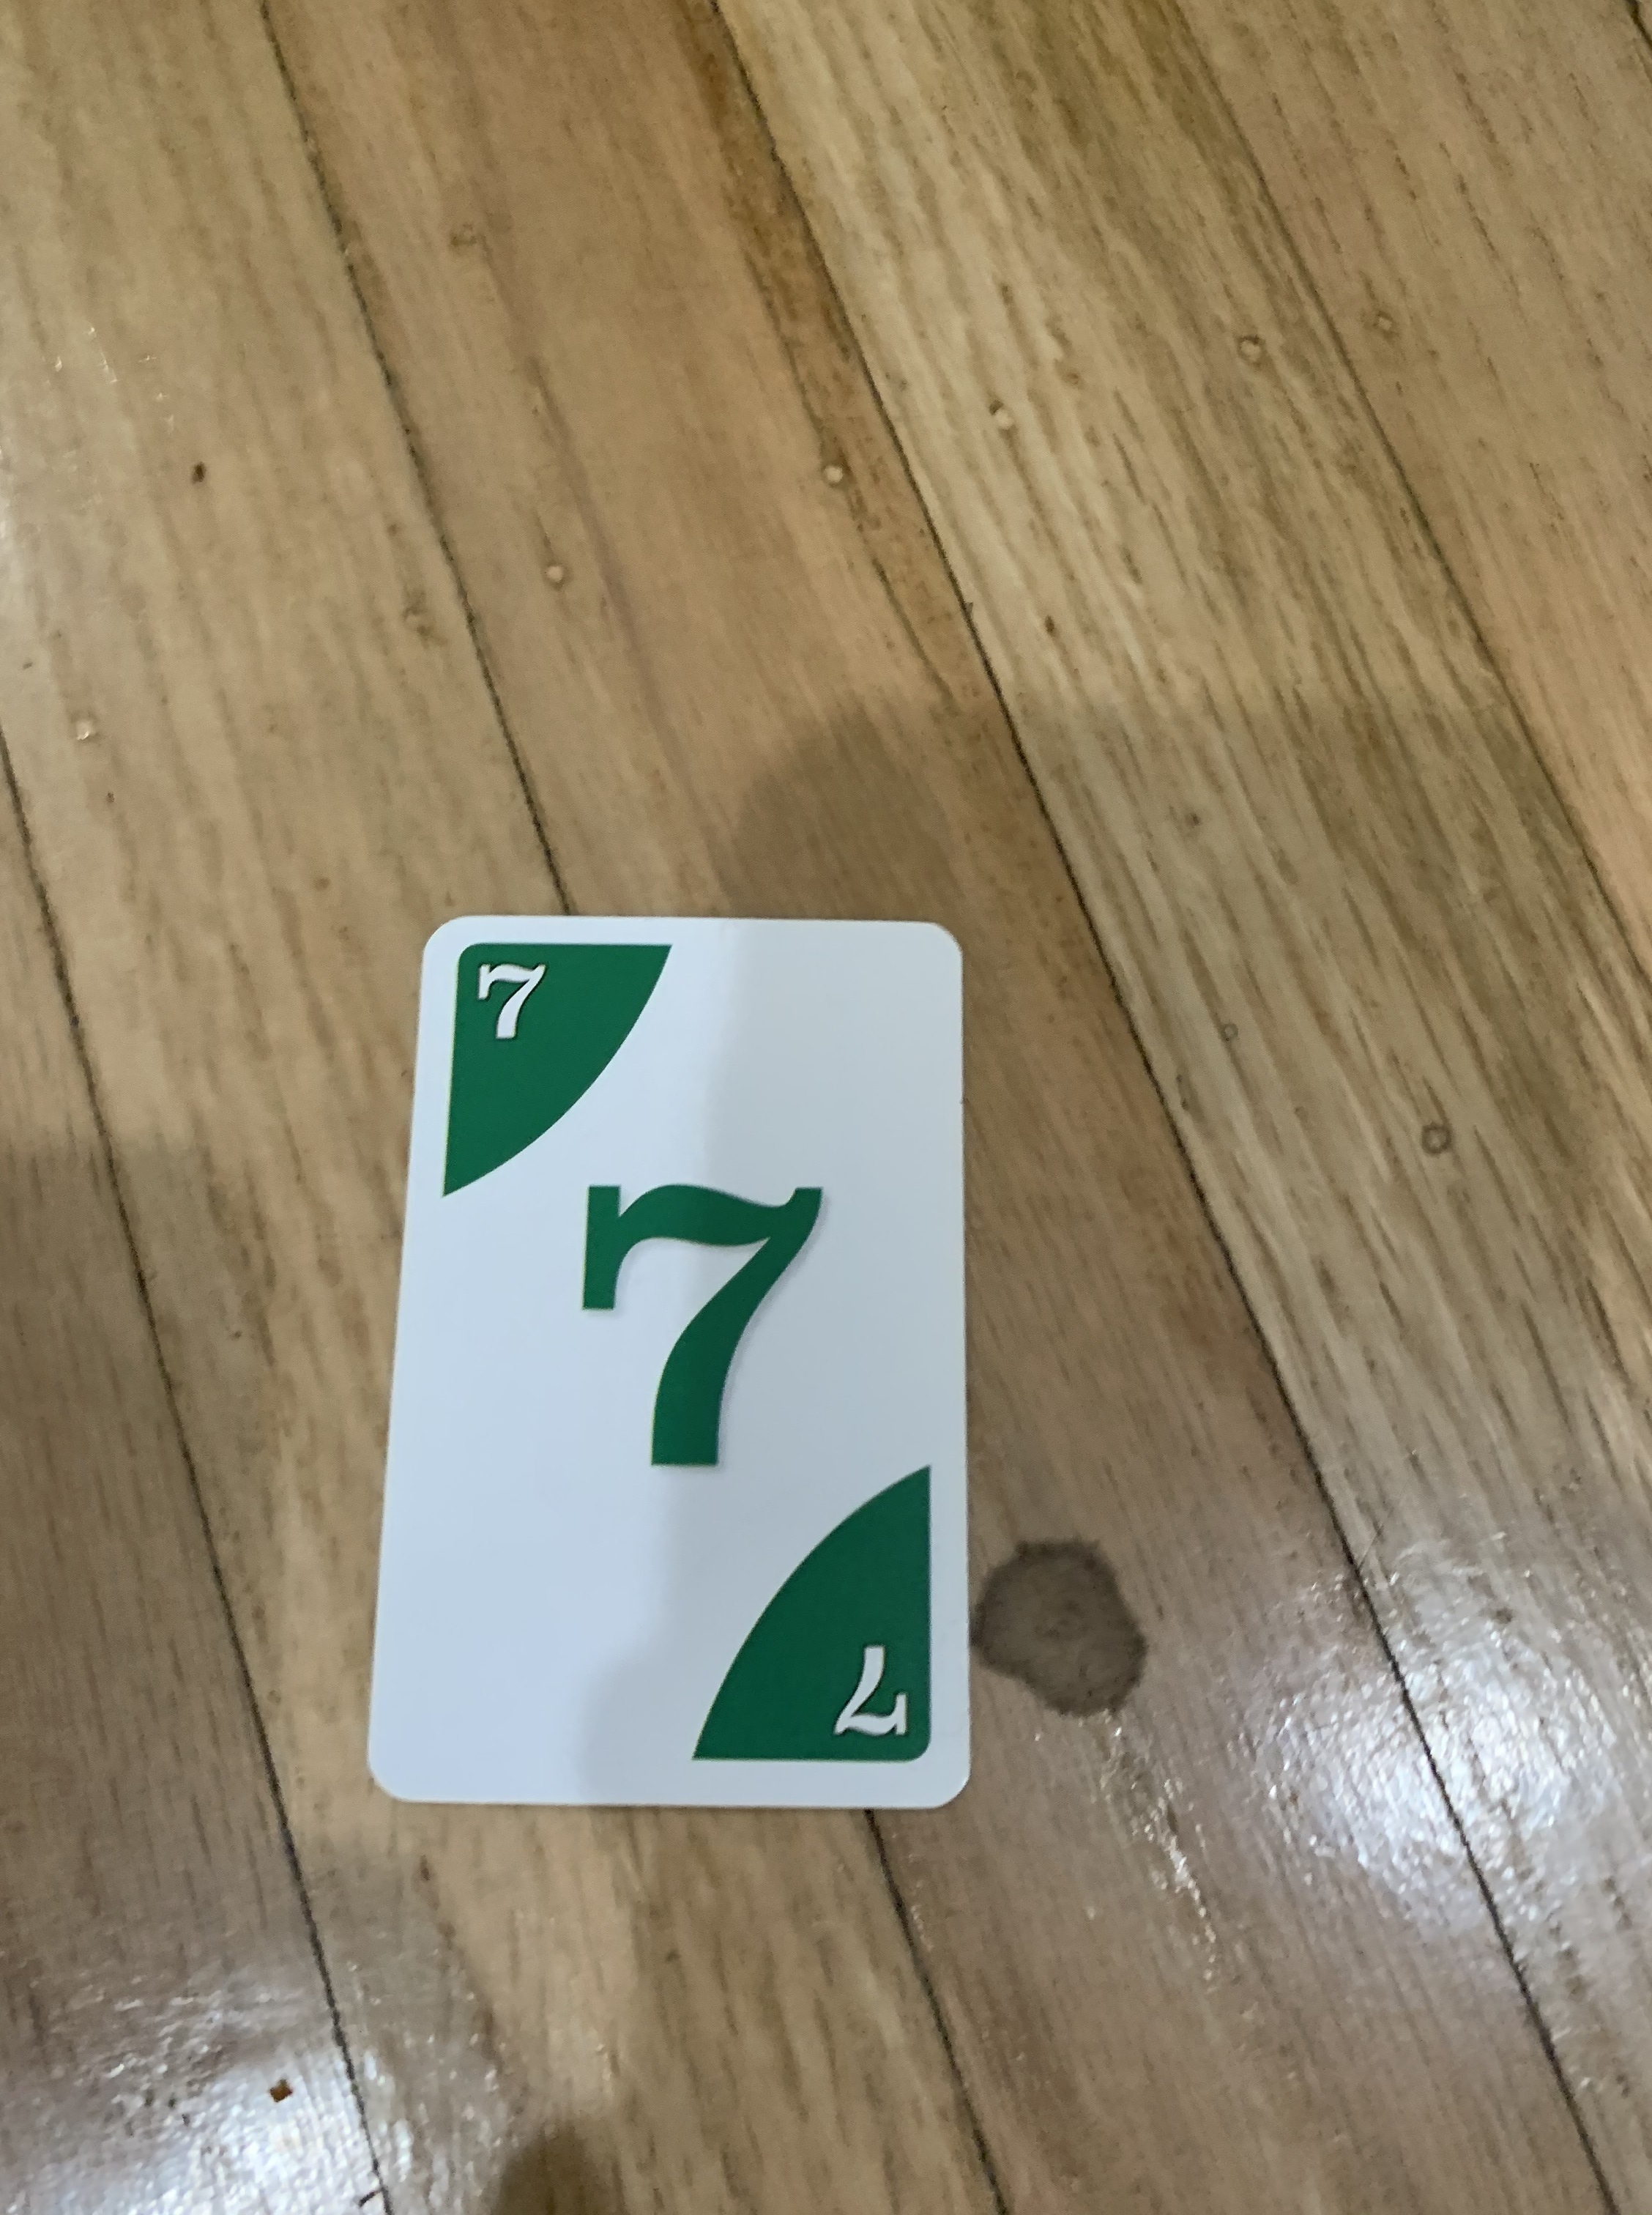seven: (356, 911, 975, 1816)
